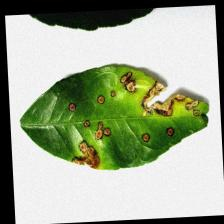canker: (59, 73, 202, 167)
